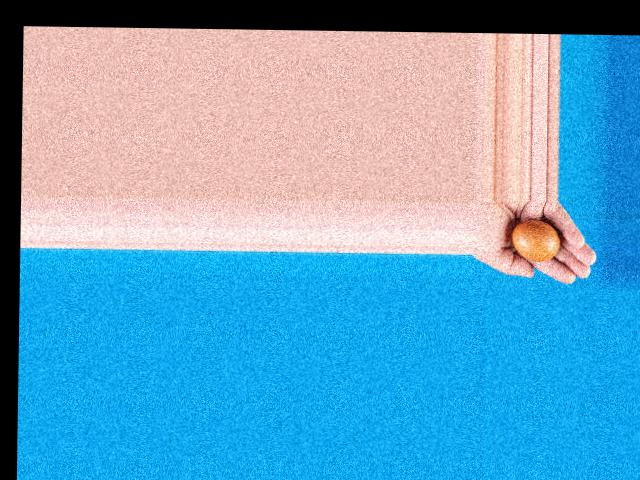egg: (512, 220, 561, 261)
